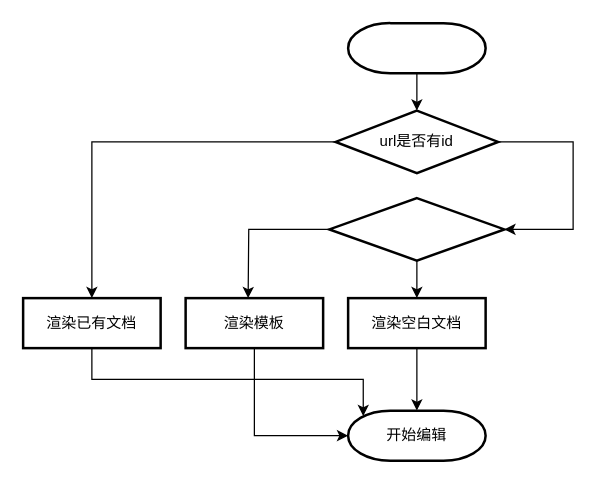
Image size: 605x483. Some labels were removed from this diagram. The centre of each missing label's shape, as x and y in pixels:
"url是否有template" goes at [416,228].
"进入编辑页面" goes at [416,47].
